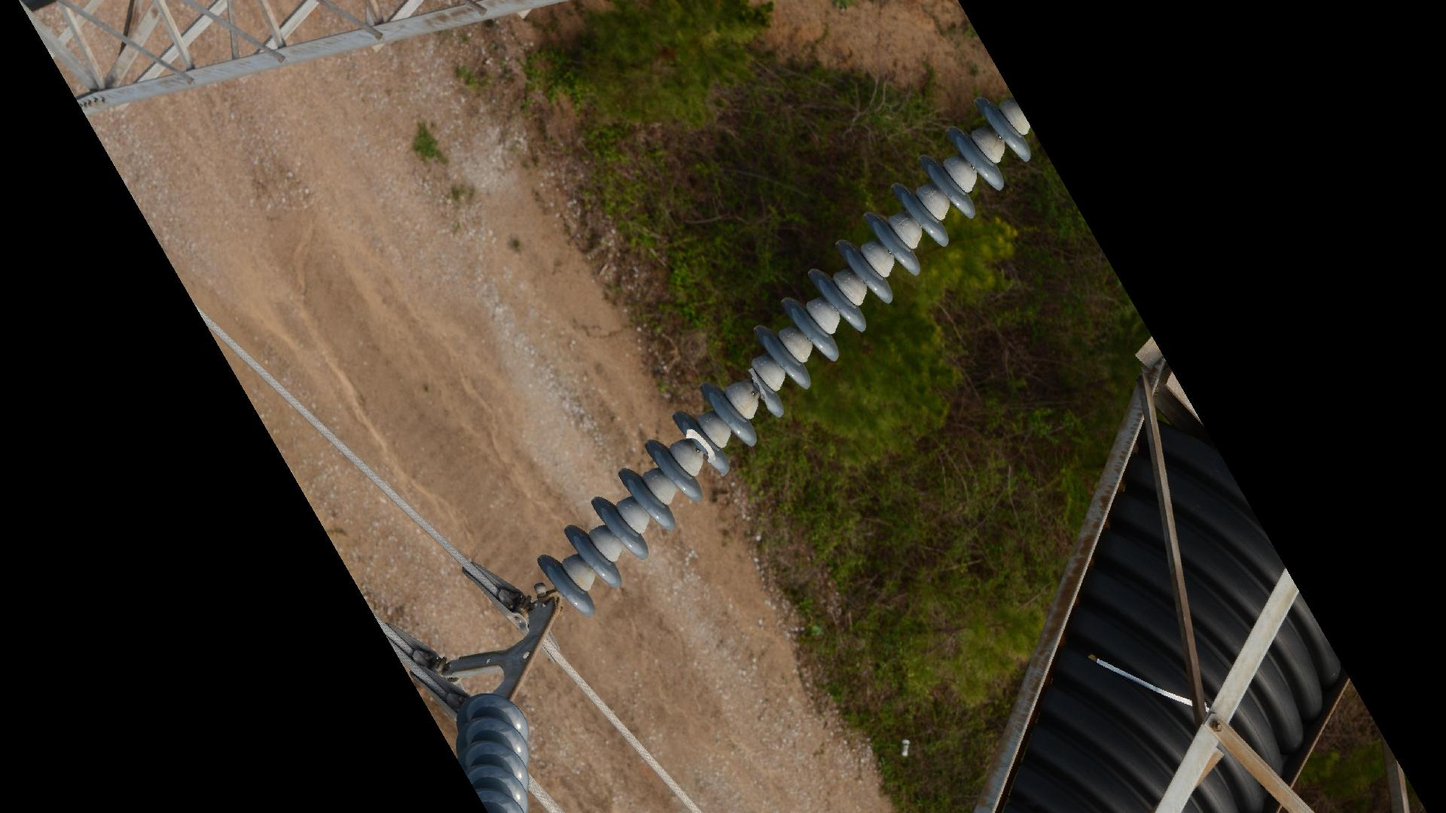insulator: (534, 93, 1045, 620), (447, 688, 538, 813)
insulator_breakage: (677, 421, 722, 470)
